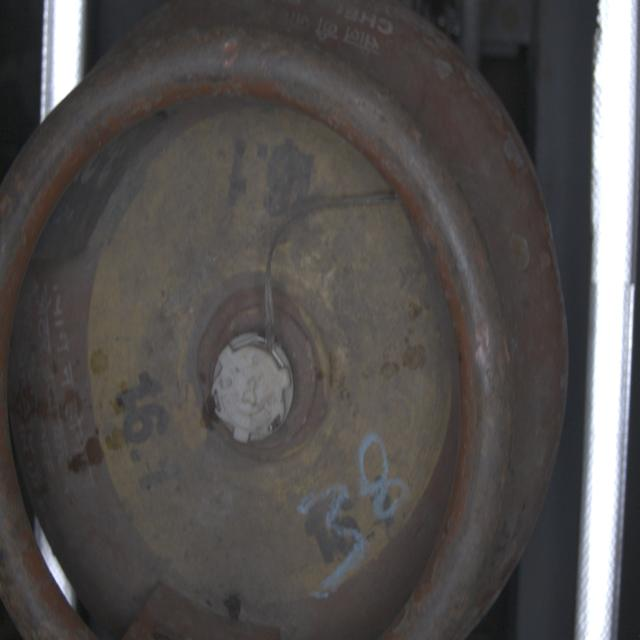Cap: (209, 329, 298, 452)
